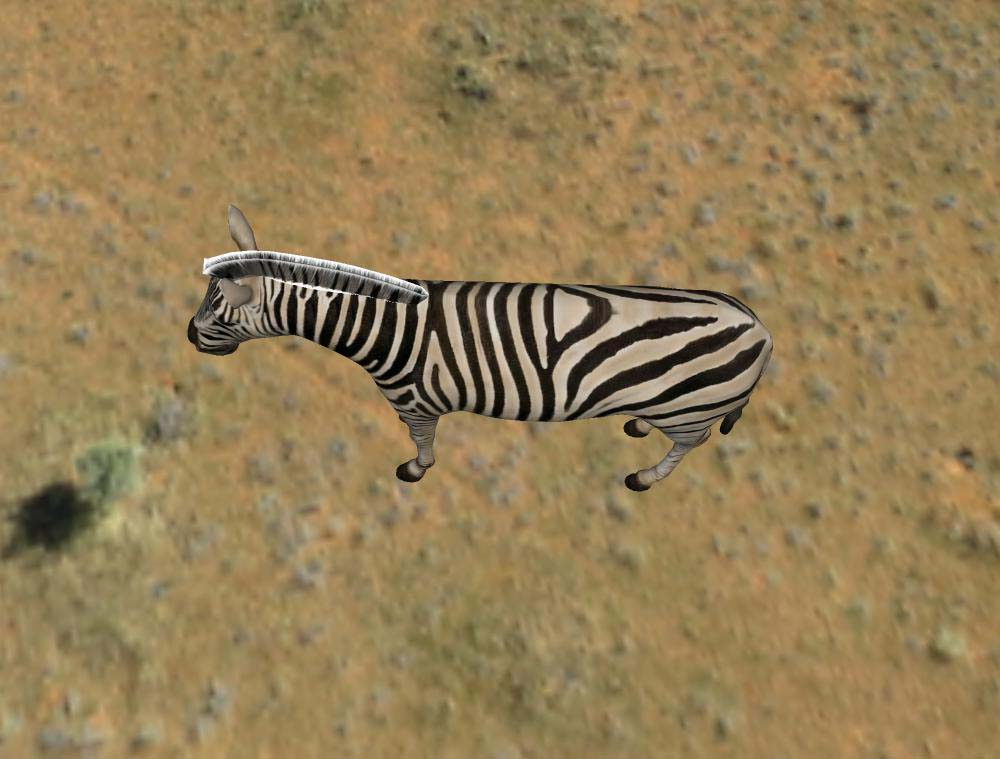zebra: (190, 205, 774, 504)
